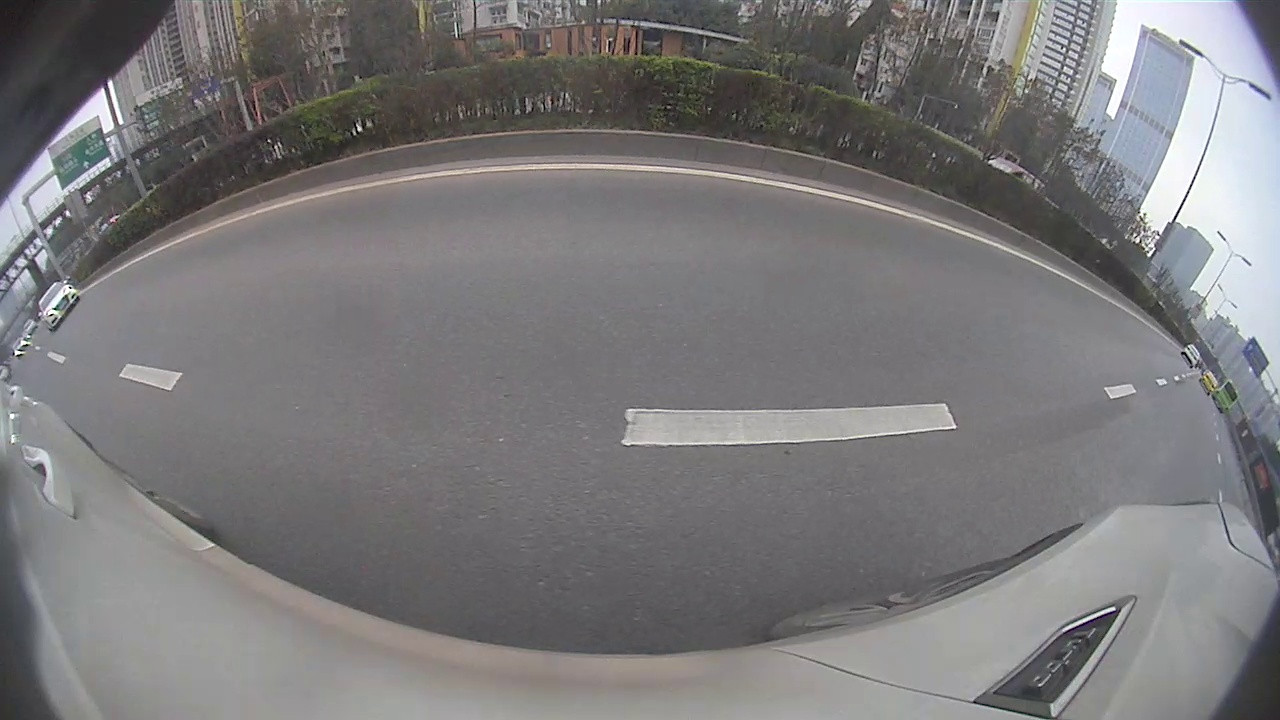bus: (1208, 376, 1241, 417)
car: (35, 278, 83, 334), (1178, 341, 1203, 370)
